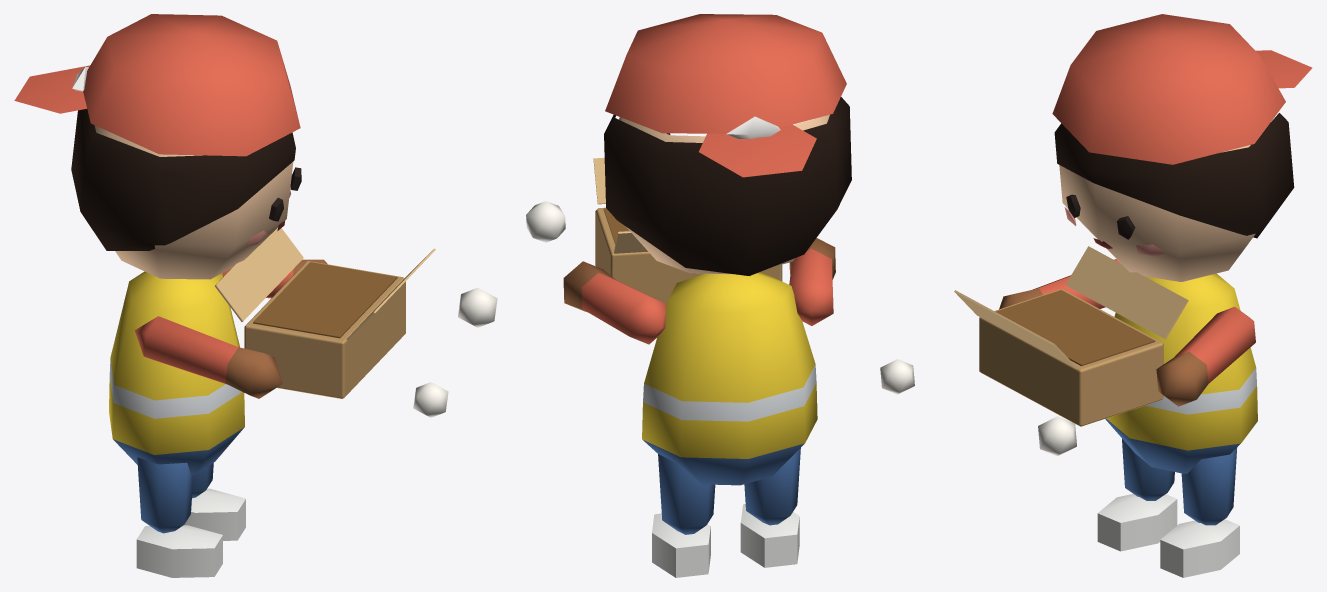
Rendered from station_processing_ausstattung_3_1.glb.
3 renders of one model, left to right at view 1: azimuth 30°, elevation 25°; view 2: azimuth 150°, elevation 25°; view 3: azimuth 270°, elevation 25°, orthographic. The views are drawn at different scales.
Parts seen in each view (by area): view 1: station_processing_ausstattung_3_1; view 2: station_processing_ausstattung_3_1; view 3: station_processing_ausstattung_3_1.
Boxes of the visible parts, left/top/right/bottom form: station_processing_ausstattung_3_1: left=14, top=14, right=497, bottom=577; station_processing_ausstattung_3_1: left=526, top=14, right=851, bottom=577; station_processing_ausstattung_3_1: left=880, top=14, right=1312, bottom=577.
Bounding box in the file's own units: 0.8699 × 1.15 × 0.8796.
